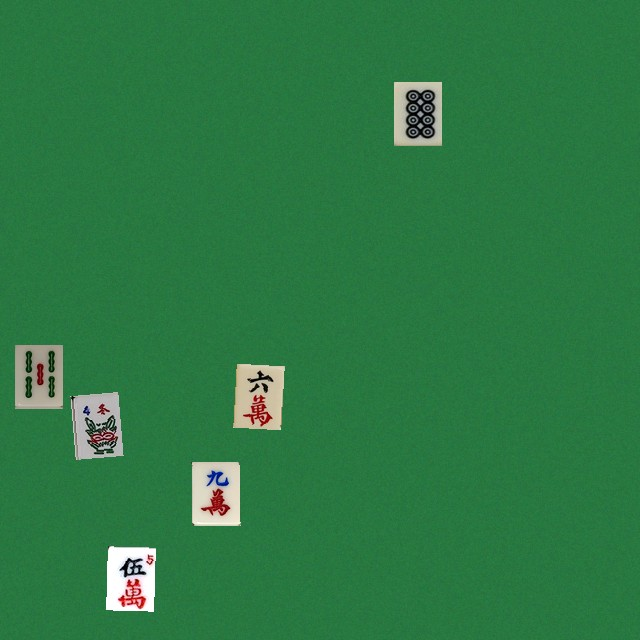tile: (106, 546, 154, 610), (70, 392, 118, 456), (14, 344, 62, 408), (393, 81, 441, 145), (233, 363, 281, 427), (191, 461, 239, 525)
